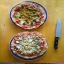pizza: (13, 34, 48, 57), (12, 6, 42, 28)
